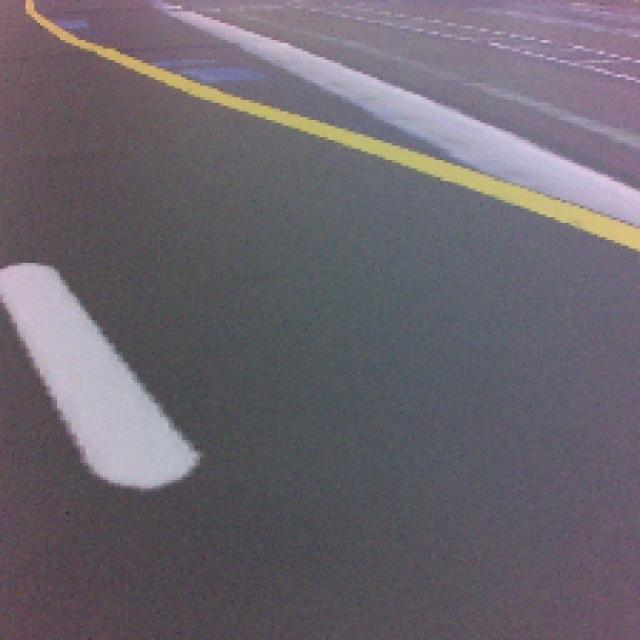Pedestrian crosswalk: (0, 265, 198, 494)
